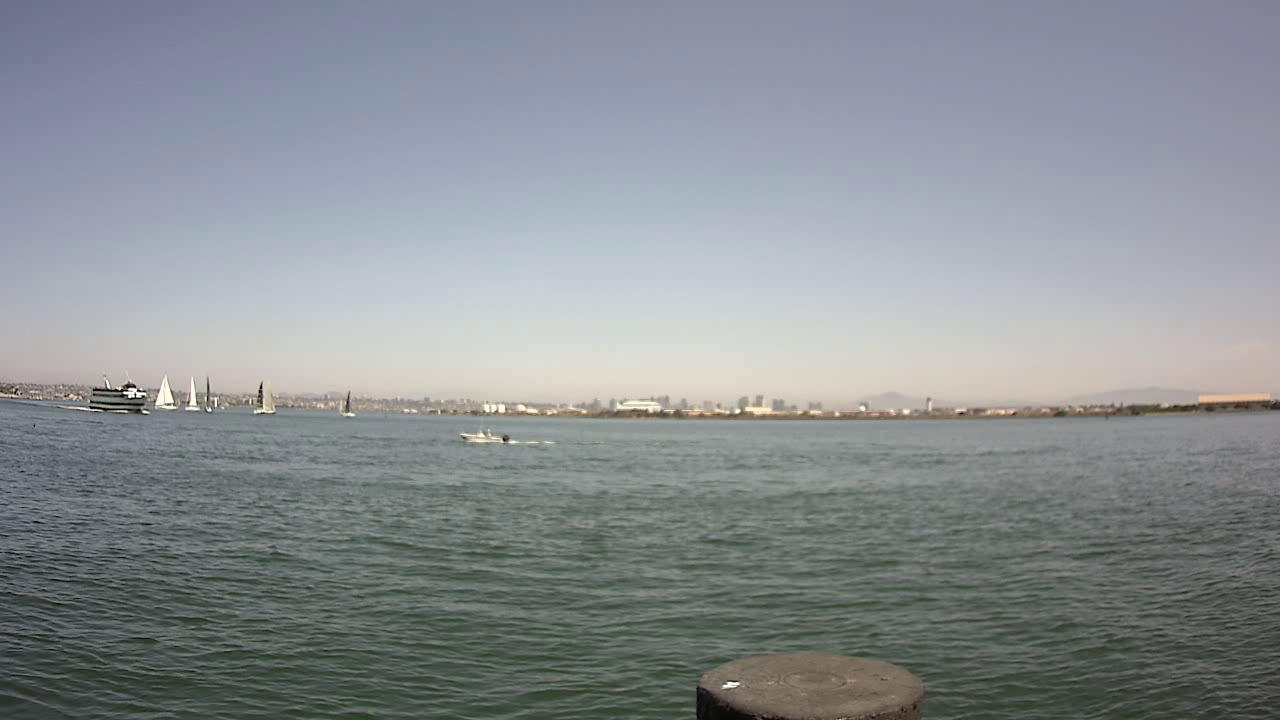target: (456, 422, 516, 451)
